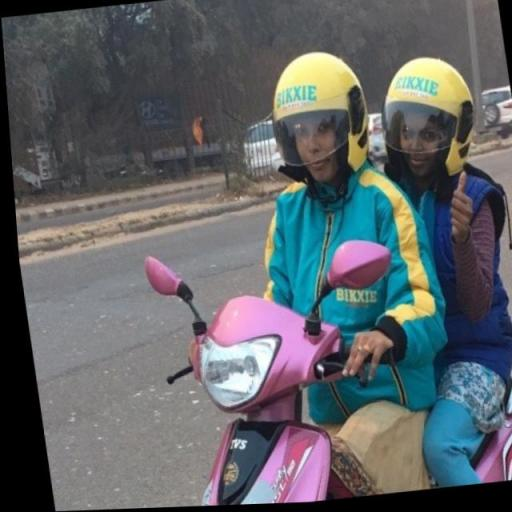Helmet: (356, 24, 489, 209), (256, 34, 379, 198)
Motor: (126, 211, 512, 508)
